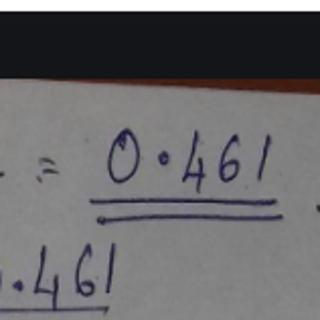.: (154, 146, 174, 170), (11, 275, 28, 296)
0: (105, 125, 142, 186)
1: (104, 241, 121, 294), (258, 133, 272, 184)
4: (34, 246, 60, 308), (182, 131, 207, 194)
6: (76, 240, 100, 296), (220, 133, 244, 185)
